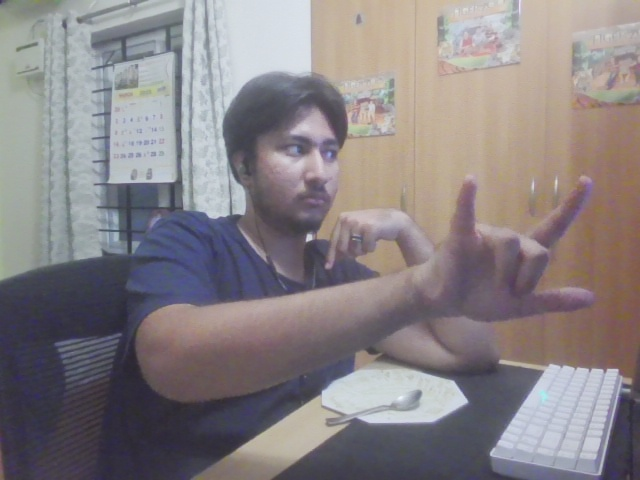iloveyou: (429, 171, 600, 324)
